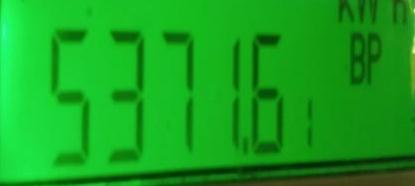.: (334, 0, 415, 28)
0: (240, 134, 251, 155)
2: (228, 34, 246, 152)
4: (106, 28, 148, 164)
6: (45, 26, 99, 169)
7: (251, 32, 286, 155)
8: (160, 29, 201, 158)
